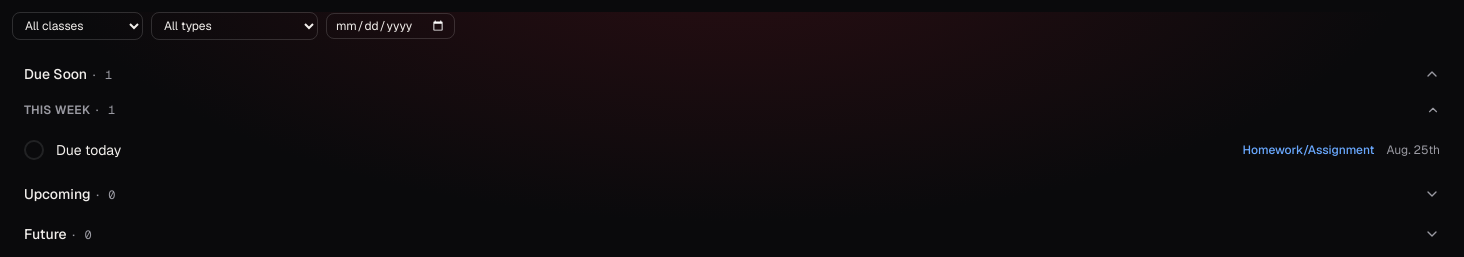
Test: TaskListModule › Due Soon's This week / Next week split › This week can be collapsed independently of Due Soon
The width and height of the screenshot is (1464, 257).
What coordinates should you click on to do the following:
click the button "This week · 1"
I would click on:
 (57, 110)
Its box is [12,96,1452,124].
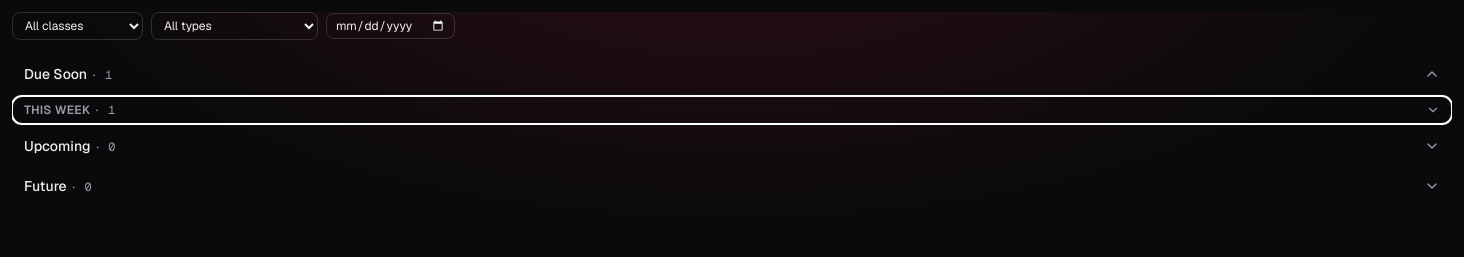
Expected: the button "Due today" is gone
